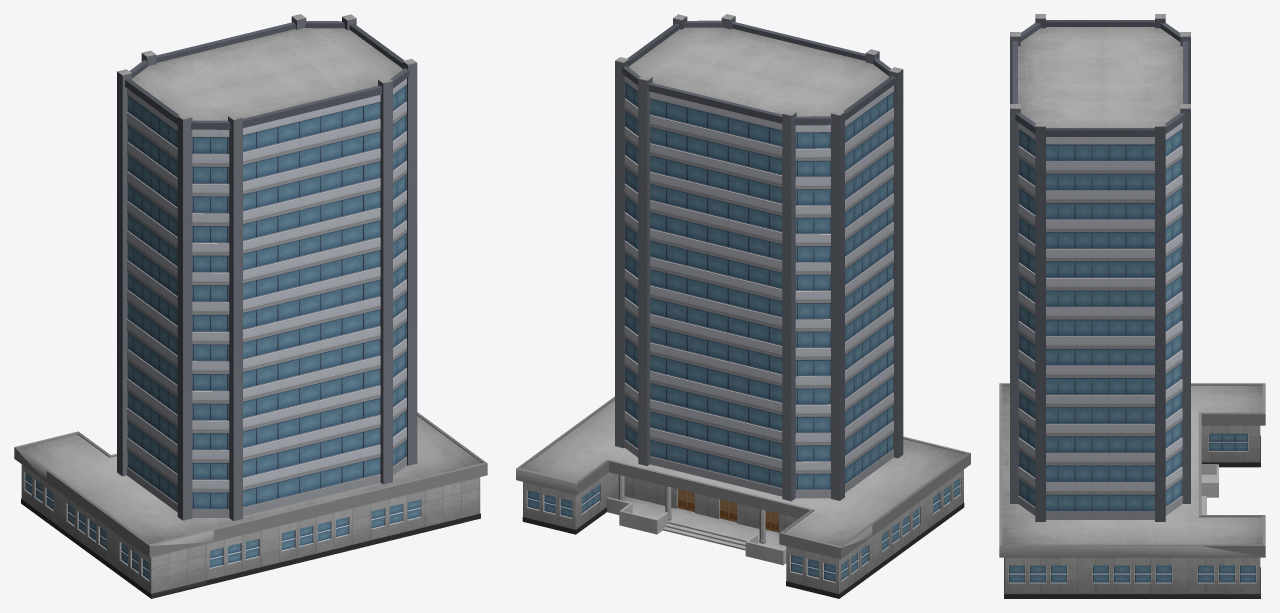
3 renders of one model, left to right at view 1: azimuth 30°, elevation 25°; view 2: azimuth 150°, elevation 25°; view 3: azimuth 270°, elevation 25°, orthographic. The views are drawn at different scales.
Parts seen in each view (by area): view 1: MainBuilding; view 2: MainBuilding; view 3: MainBuilding.
Boxes of the visible parts, bbox=[...] form: MainBuilding: bbox=[14, 14, 487, 598]; MainBuilding: bbox=[516, 14, 970, 598]; MainBuilding: bbox=[999, 14, 1265, 598].
Bounding box in the file's own units: 3.61 × 4.65 × 2.5.
Materials: 1 (1 with a texture image).
